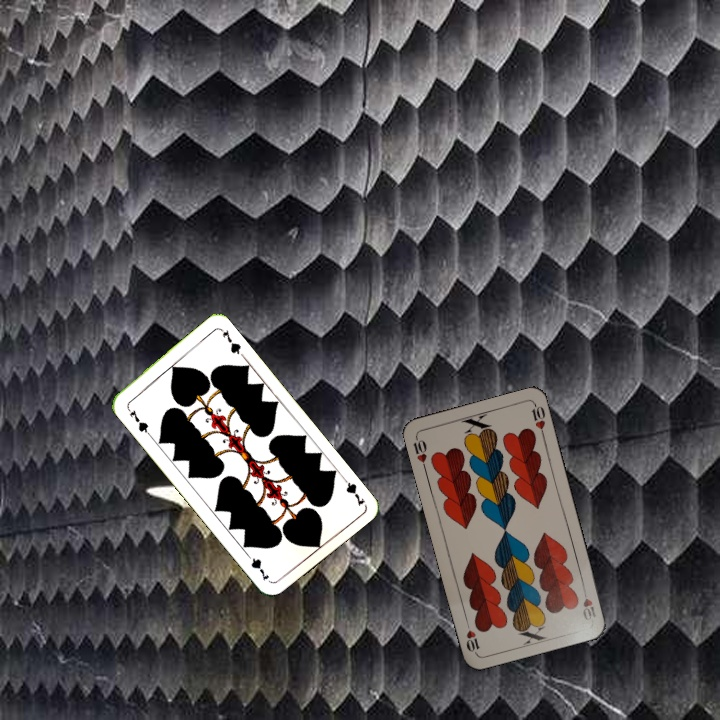G7: (337, 471, 368, 509), (123, 403, 153, 437)
H10: (578, 583, 599, 623), (409, 433, 429, 473)
